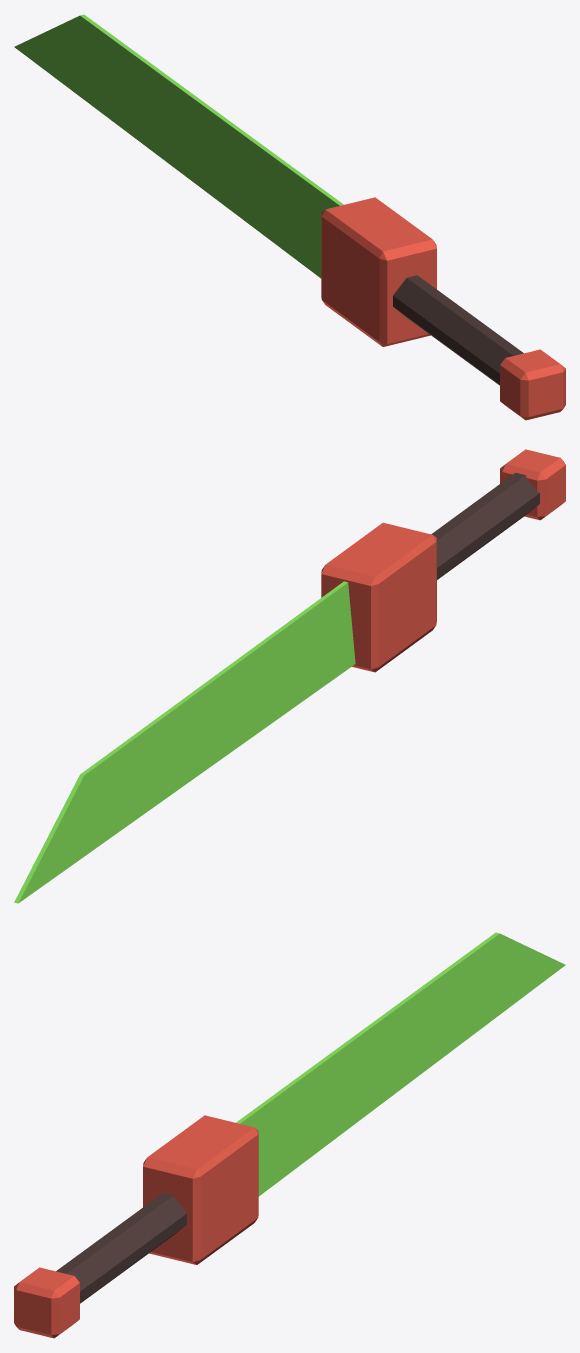
File: Sword.fbx
3 renders of one model, top to bottom at view 1: azimuth 30°, elevation 25°; view 2: azimuth 150°, elevation 25°; view 3: azimuth 330°, elevation 25°, orthographic.
Parts seen in each view (by area): view 1: Sword; view 2: Sword; view 3: Sword.
Part boxes in pixels (box(x1,y1,x2,y2)): Sword: box(14, 14, 565, 420); Sword: box(14, 449, 565, 903); Sword: box(14, 932, 565, 1338).
Bounding box in the file's own units: 30 × 48 × 482.
